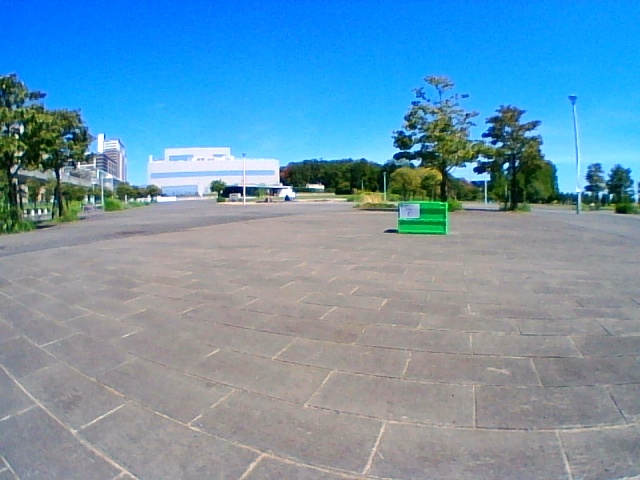green_box: (398, 201, 446, 235)
tag: (400, 206, 418, 218)
